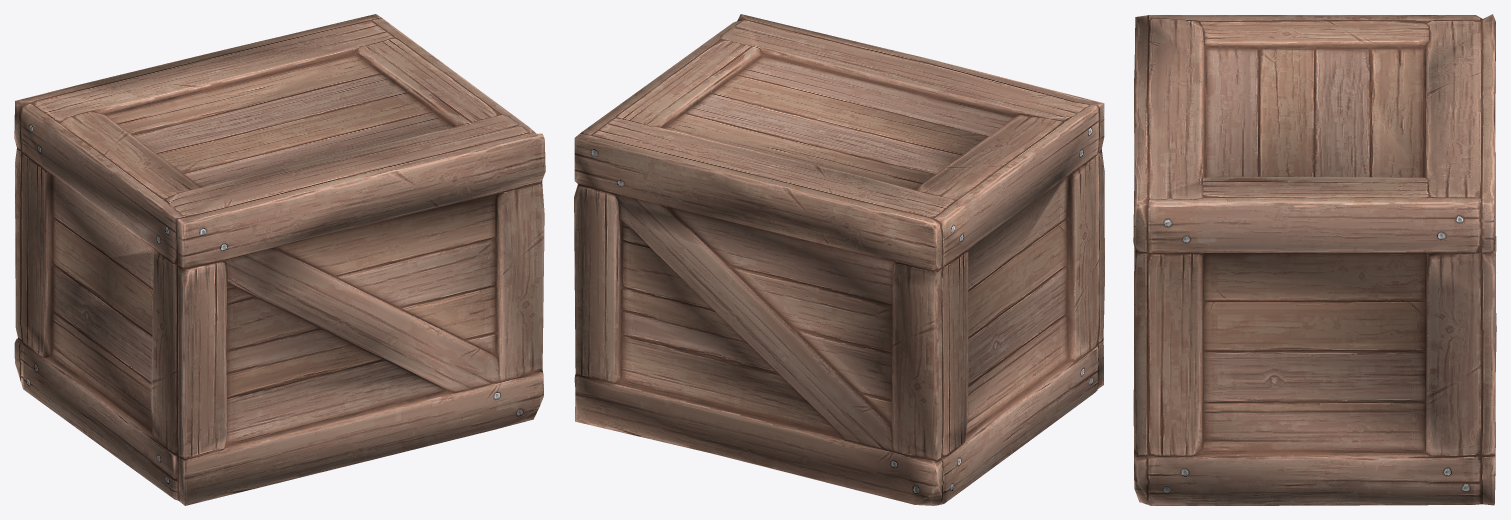
Rendered from Box_Wood_01_LOD0.fbx.
The picture shows the model from 3 angles, left to right: view 1: azimuth 30°, elevation 25°; view 2: azimuth 150°, elevation 25°; view 3: azimuth 270°, elevation 25°; orthographic projection. The views are drawn at different scales.
Parts seen in each view (by area): view 1: Box_Wood_01_LOD0; view 2: Box_Wood_01_LOD0; view 3: Box_Wood_01_LOD0.
Boxes of the visible parts, left/top/right/bottom form: Box_Wood_01_LOD0: left=14, top=14, right=545, bottom=505; Box_Wood_01_LOD0: left=574, top=14, right=1104, bottom=505; Box_Wood_01_LOD0: left=1133, top=14, right=1496, bottom=505.
Bounding box in the file's own units: 402 × 301 × 325.
